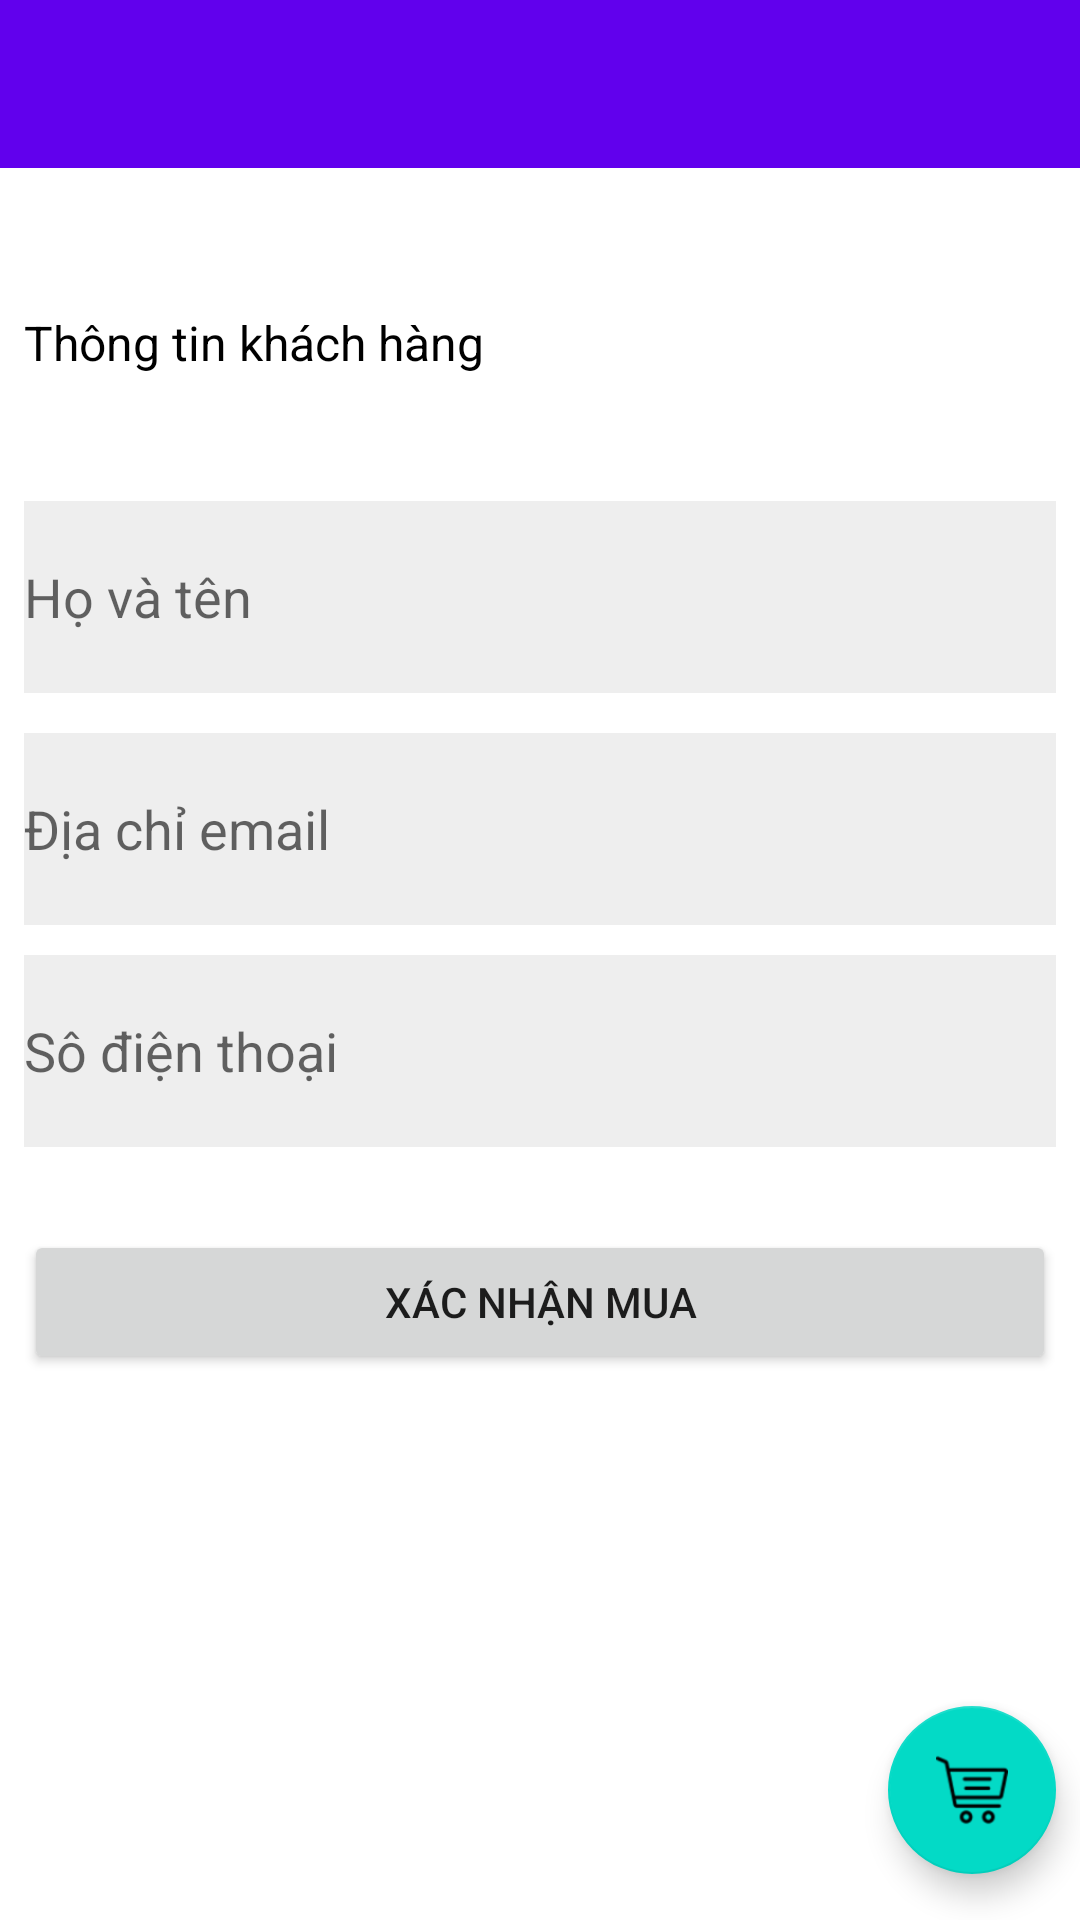

Screen size 1080 × 1920. Icon name, then its box in pixels as rect(x1, y1, x2, y2):
store: rect(888, 1706, 1056, 1874)
